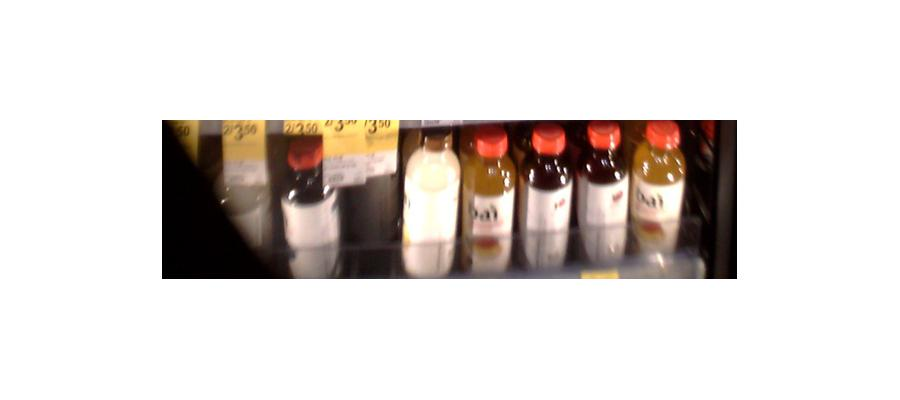bottle: (279, 129, 338, 277), (400, 126, 457, 278), (458, 127, 517, 270), (575, 125, 632, 268), (516, 129, 572, 270), (633, 122, 685, 268)
